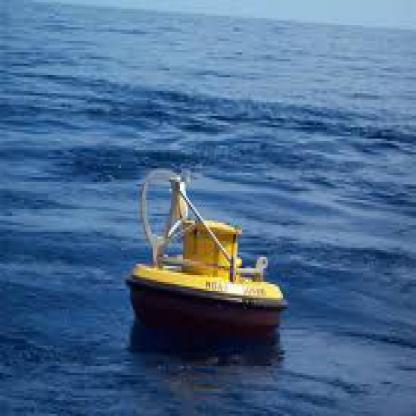buoy: (116, 155, 295, 350)
